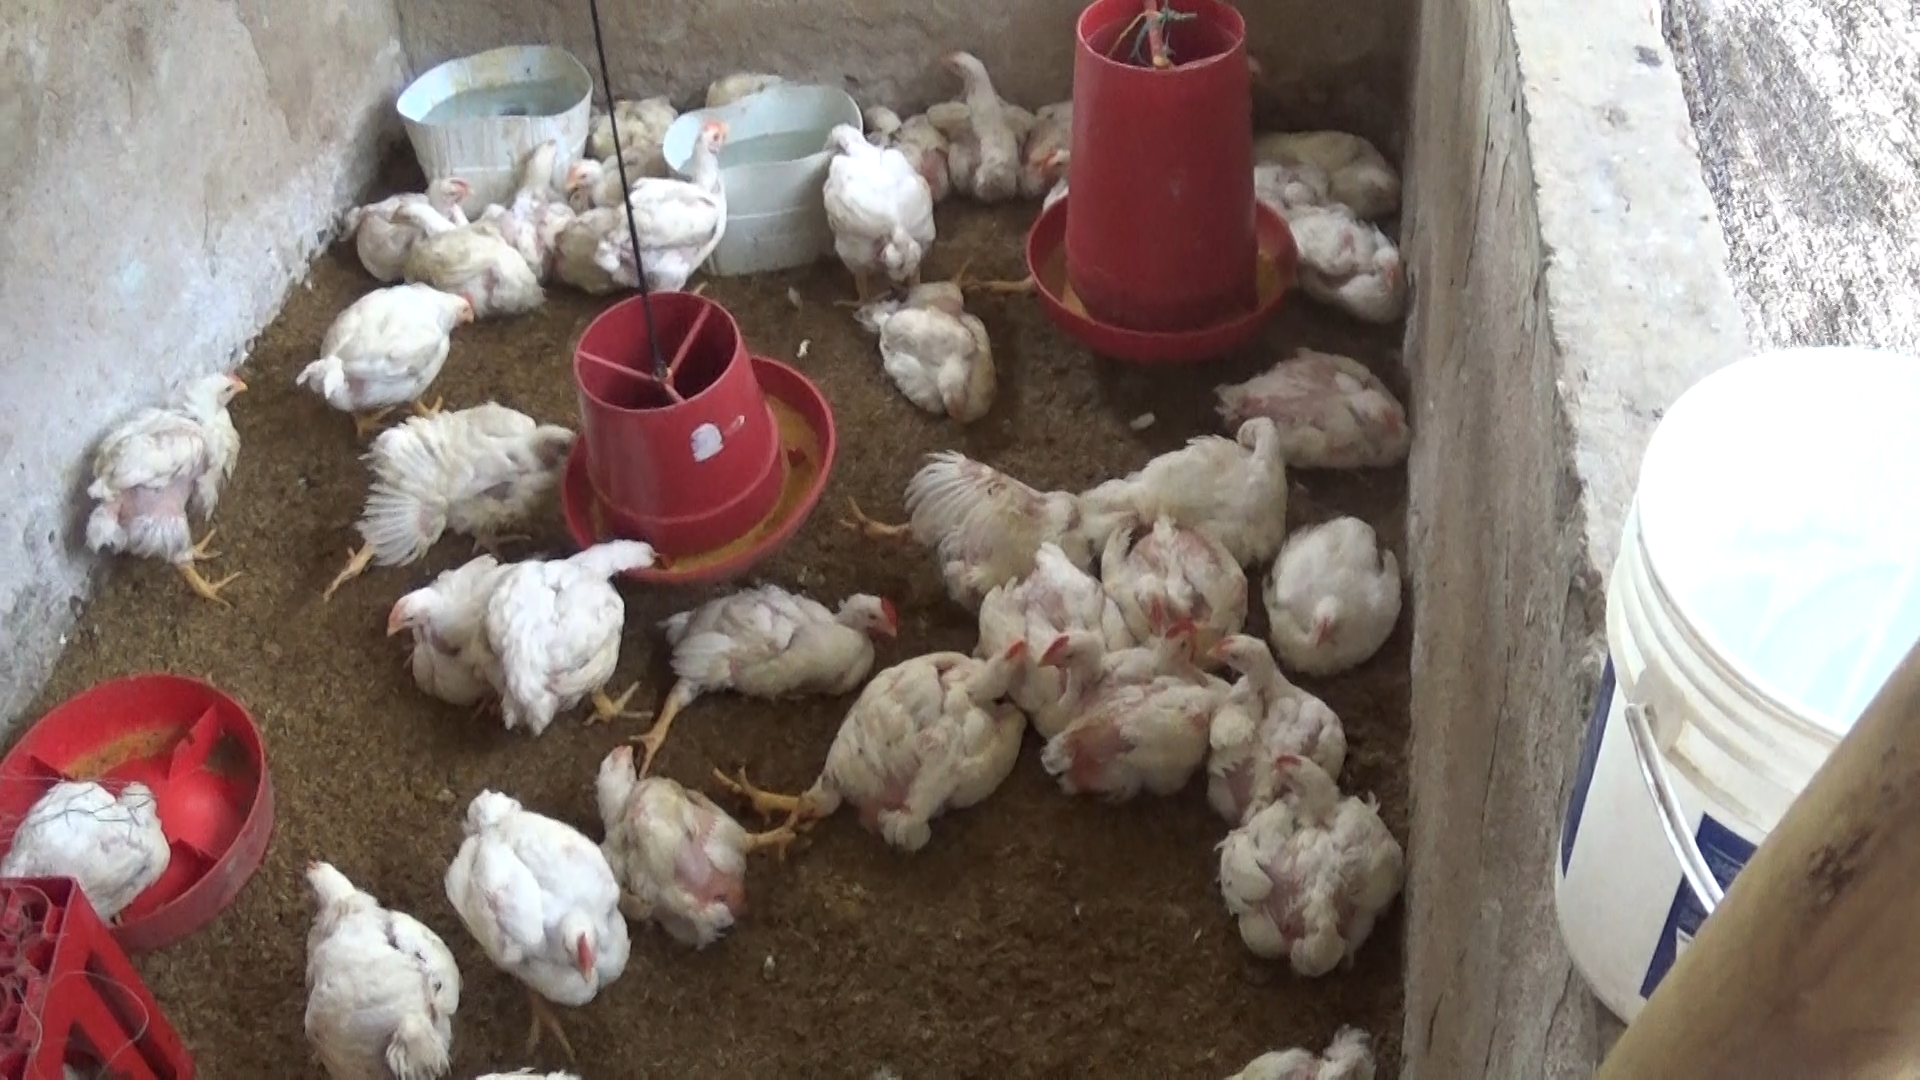Pollos: (425, 785, 644, 1013), (268, 847, 480, 1080), (71, 359, 261, 612), (800, 640, 1042, 837), (498, 522, 694, 731), (1221, 752, 1406, 963), (338, 413, 585, 567), (644, 572, 897, 721), (607, 735, 764, 957), (1196, 626, 1361, 822), (1095, 404, 1296, 559), (1257, 492, 1422, 678), (1222, 336, 1416, 488), (381, 547, 526, 738), (1077, 630, 1218, 823), (0, 752, 166, 914), (295, 273, 473, 422), (861, 257, 1006, 419), (799, 123, 942, 287), (608, 117, 735, 291), (1280, 187, 1425, 336), (984, 553, 1127, 698), (1237, 105, 1404, 228), (378, 195, 535, 322), (928, 34, 1044, 198), (1101, 524, 1257, 640), (347, 174, 481, 274), (493, 131, 584, 258), (564, 156, 650, 208), (1017, 140, 1083, 208)
